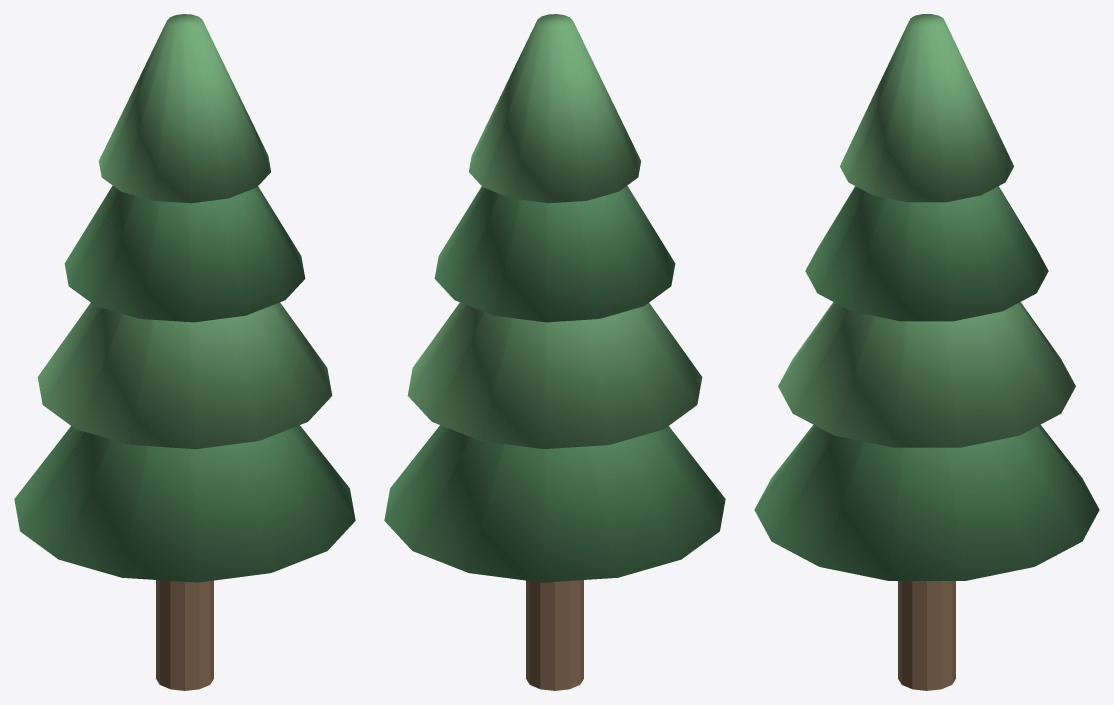
Rendered from tree_pine.glb.
3 renders of one model, left to right at view 1: azimuth 30°, elevation 25°; view 2: azimuth 150°, elevation 25°; view 3: azimuth 270°, elevation 25°, orthographic.
Visible parts, largest first — view 1: Crown_A, Crown_B, Crown_C, Crown_D, Trunk; view 2: Crown_A, Crown_B, Crown_C, Crown_D, Trunk; view 3: Crown_A, Crown_B, Crown_C, Crown_D, Trunk.
Boxes of the visible parts, x1,y1,x2,y2 form: Crown_A: (14,425,355,582); Crown_B: (37,302,332,448); Crown_C: (64,185,305,322); Crown_D: (98,14,270,203); Trunk: (156,580,213,690); Crown_A: (384,425,725,582); Crown_B: (407,302,702,448); Crown_C: (434,185,675,322); Crown_D: (469,14,641,203); Trunk: (526,580,583,690); Crown_A: (754,425,1099,580); Crown_B: (778,302,1075,447); Crown_C: (805,186,1048,321); Crown_D: (840,14,1013,202); Trunk: (898,581,955,690).
Bounding box in the file's own units: 1.85 × 3.99 × 1.9.
